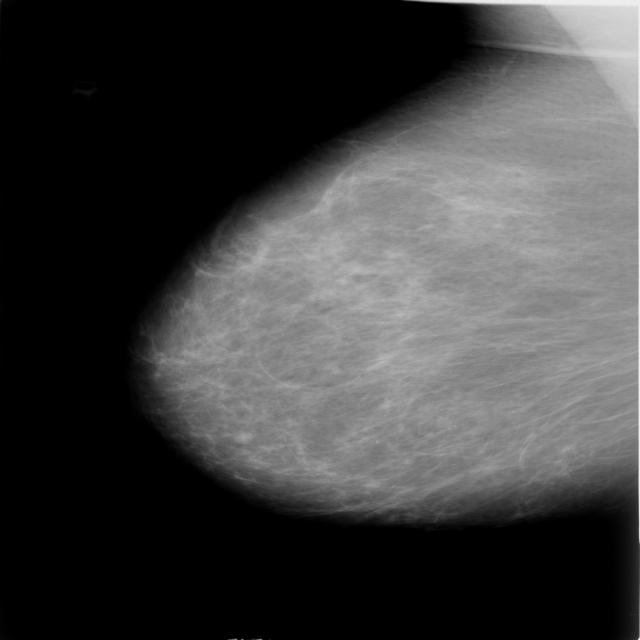normal: (161, 3, 640, 524)
